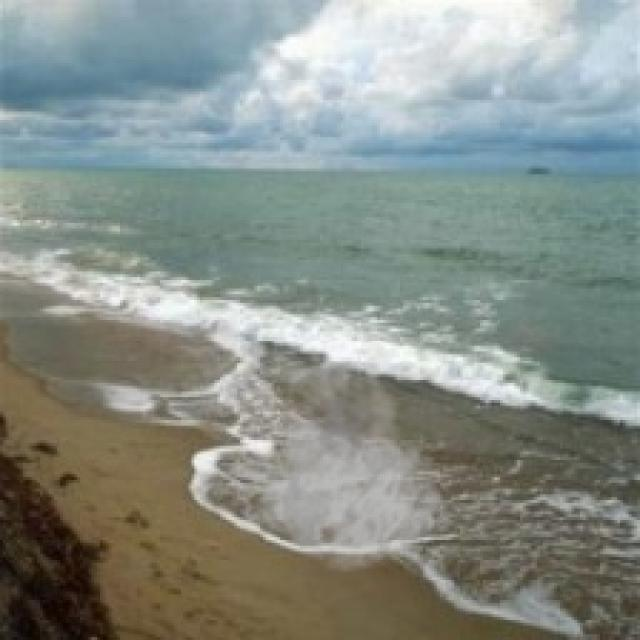smoke: (237, 340, 452, 574)
